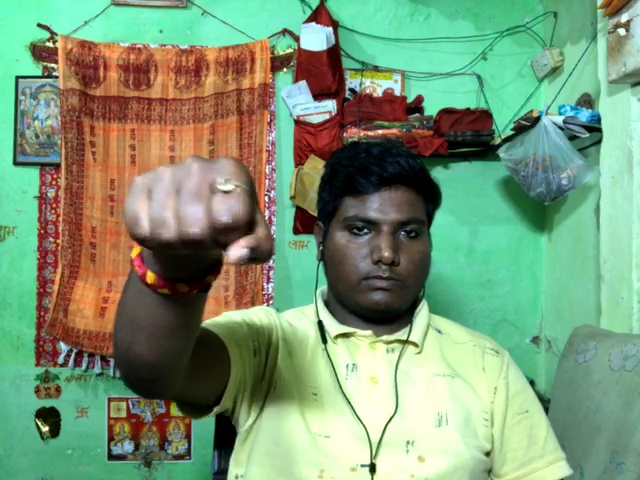Yes: (106, 145, 285, 306)
